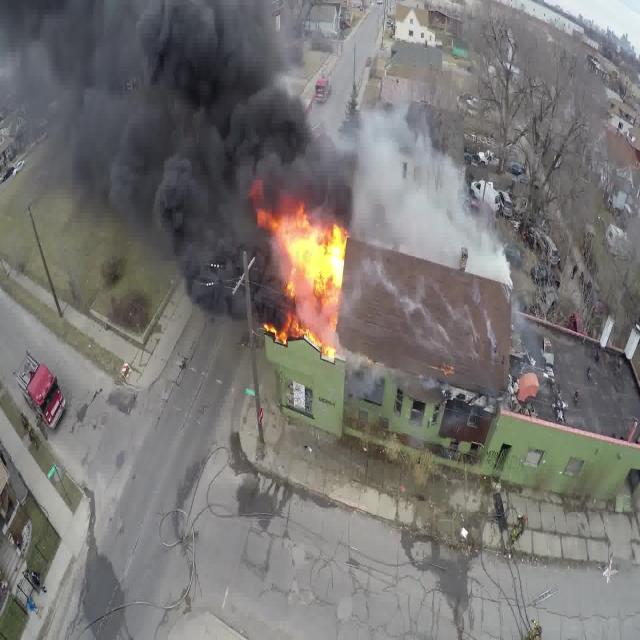Fire: (253, 180, 350, 372)
Smoke: (2, 6, 514, 434)
